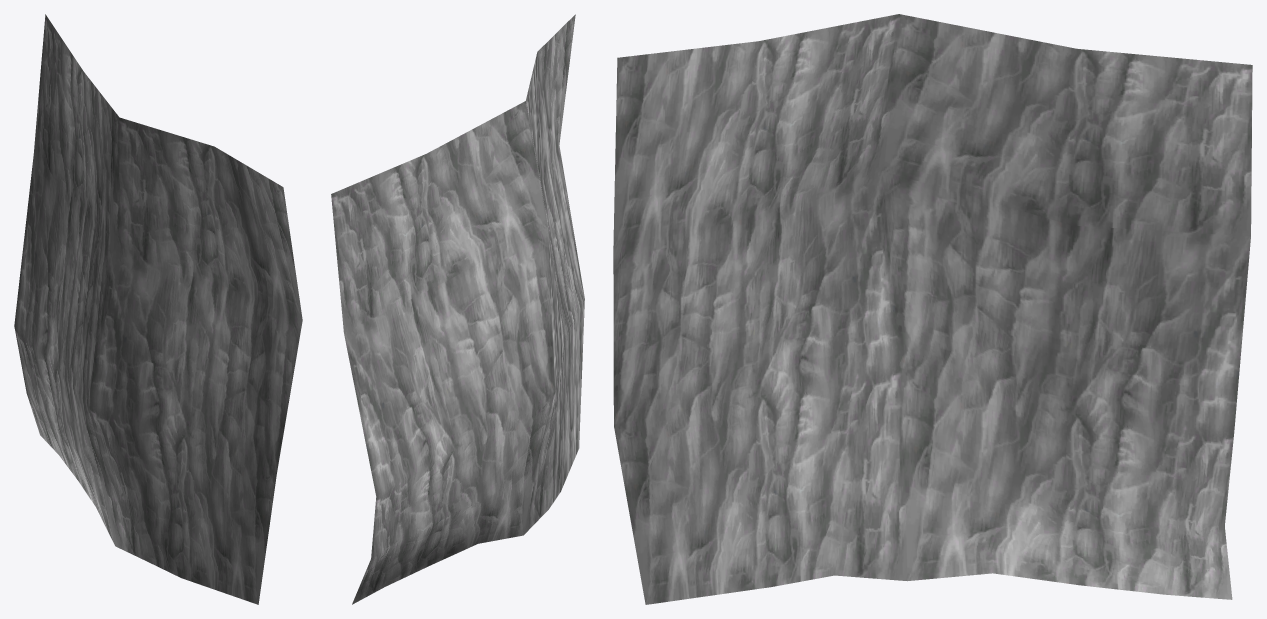
File: SWORDLIGHT20_PS-AREA03_34.fbx
The picture shows the model from 3 angles, left to right: view 1: azimuth 30°, elevation 25°; view 2: azimuth 150°, elevation 25°; view 3: azimuth 270°, elevation 25°; orthographic projection. The views are drawn at different scales.
Visible parts, largest first — view 1: SWORDLIGHT20_PS-AREA03_34; view 2: SWORDLIGHT20_PS-AREA03_34; view 3: SWORDLIGHT20_PS-AREA03_34.
Part boxes in pixels (<box>): SWORDLIGHT20_PS-AREA03_34: <box>14,14,302,604</box>; SWORDLIGHT20_PS-AREA03_34: <box>331,14,584,604</box>; SWORDLIGHT20_PS-AREA03_34: <box>613,14,1252,604</box>.
Bounding box in the file's own units: 36563 × 144575 × 147470.
Materials: 1 (1 with a texture image).
